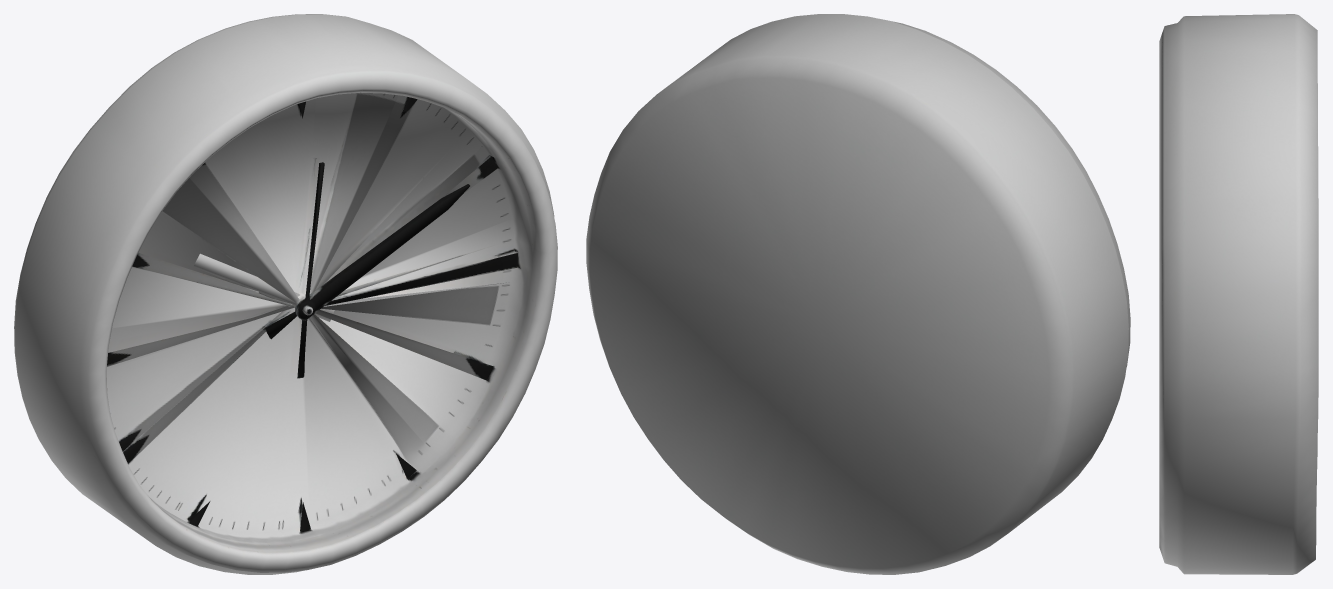
Rendered from Wall Clock.glb.
3 renders of one model, left to right at view 1: azimuth 30°, elevation 25°; view 2: azimuth 150°, elevation 25°; view 3: azimuth 270°, elevation 25°, orthographic.
Parts seen in each view (by area): view 1: tripo_node_2ce96823-5a2c-4ea2-abd1-06af502f52b5; view 2: tripo_node_2ce96823-5a2c-4ea2-abd1-06af502f52b5; view 3: tripo_node_2ce96823-5a2c-4ea2-abd1-06af502f52b5.
Boxes of the visible parts, <box> form: tripo_node_2ce96823-5a2c-4ea2-abd1-06af502f52b5: <box>14,14,557,574</box>; tripo_node_2ce96823-5a2c-4ea2-abd1-06af502f52b5: <box>586,14,1130,574</box>; tripo_node_2ce96823-5a2c-4ea2-abd1-06af502f52b5: <box>1159,14,1318,574</box>.
Size of the model in its own units: 0.9995 by 0.9995 by 0.2847.
Materials: 1 (1 with a texture image).
